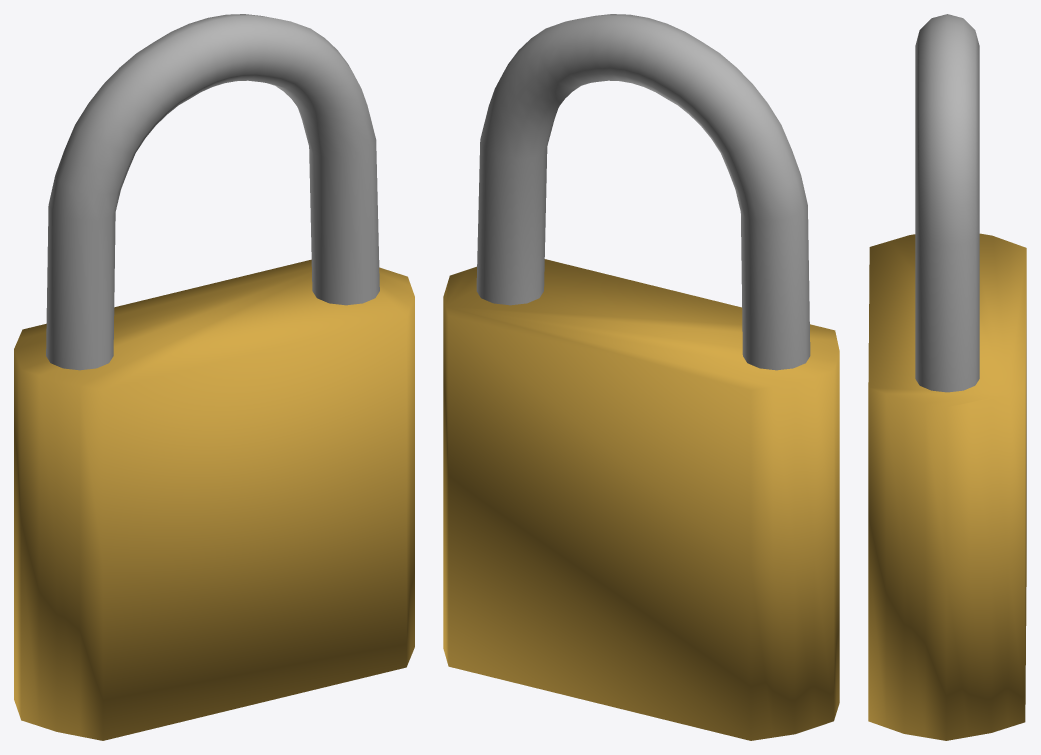
The model's file is candado.fbx.
3 views of the same model, side by side, from view 1: azimuth 30°, elevation 25°; view 2: azimuth 150°, elevation 25°; view 3: azimuth 270°, elevation 25° (orthographic). The views are drawn at different scales.
Visible parts, largest first — view 1: Torus; view 2: Torus; view 3: Torus.
Part boxes in pixels (<box>): Torus: <box>14,14,414,740</box>; Torus: <box>443,14,839,740</box>; Torus: <box>868,14,1026,740</box>.
Size of the model in its own units: 467 by 757 by 175.
